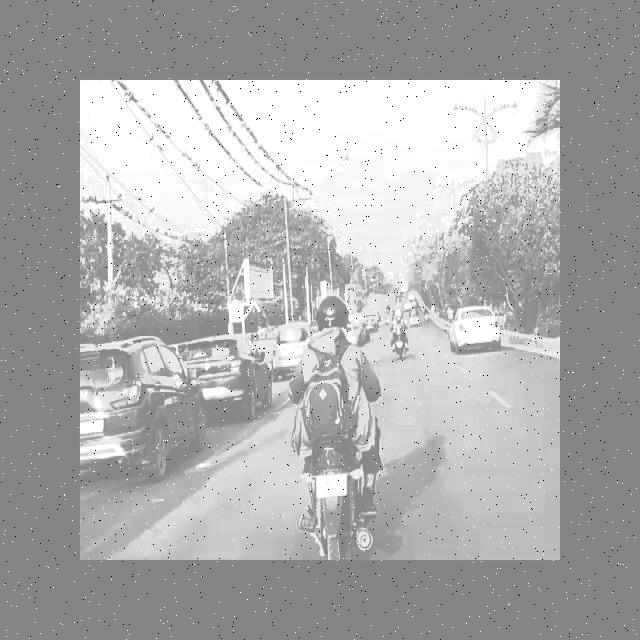Bike: (285, 310, 390, 553)
Car: (76, 331, 186, 481), (186, 331, 268, 425), (446, 305, 516, 355), (271, 317, 309, 375)
